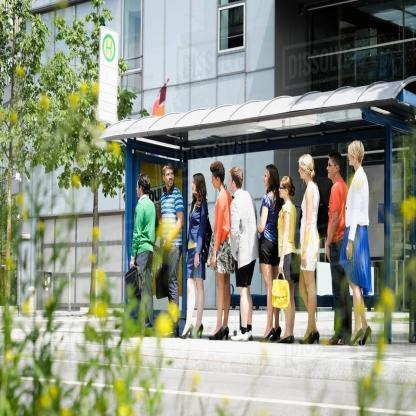Not_Wearing_Mask: (210, 170, 222, 191), (326, 159, 337, 179), (297, 161, 306, 180), (278, 180, 286, 200), (165, 170, 175, 186), (228, 173, 235, 194), (135, 180, 143, 196), (191, 177, 198, 195), (347, 151, 354, 168), (263, 171, 270, 187)
